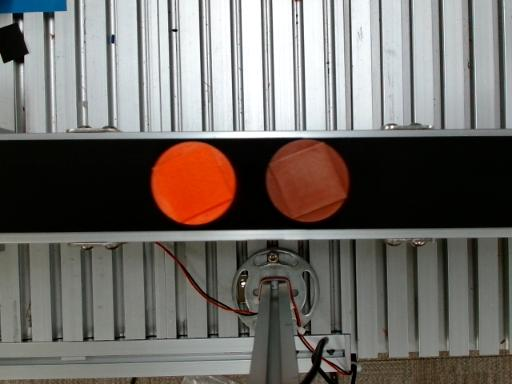Square: (152, 143, 232, 223), (270, 142, 347, 218)
